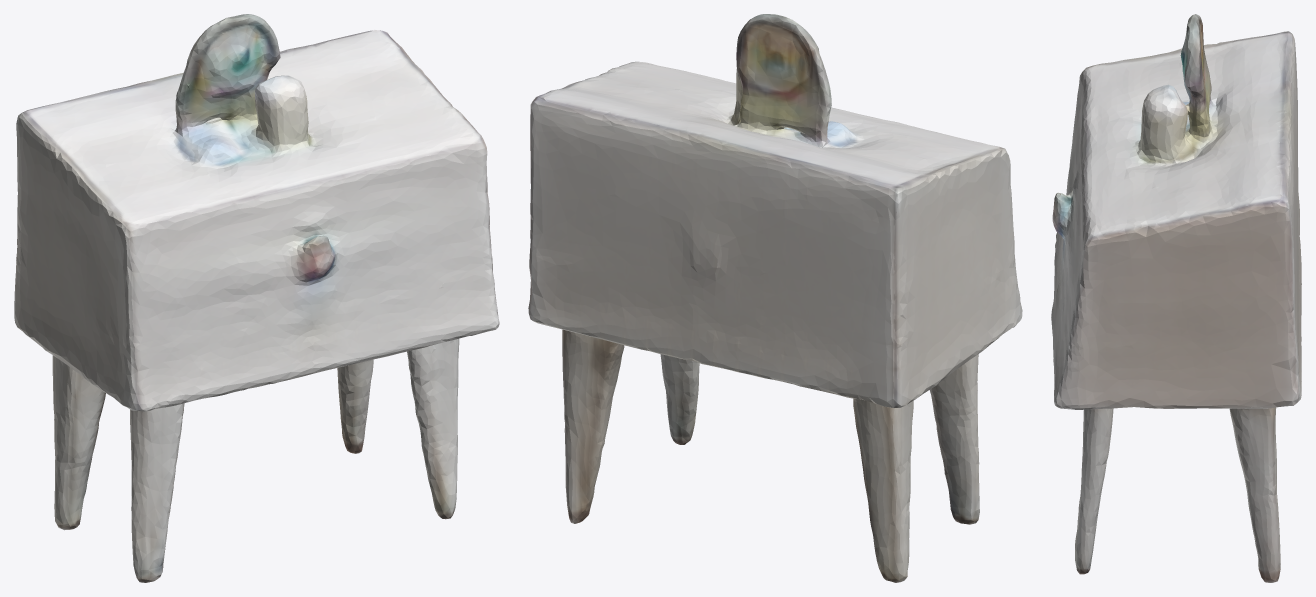
File: SESSION_1709473701_3541317_preview.gltf
The picture shows the model from 3 angles, left to right: view 1: azimuth 30°, elevation 25°; view 2: azimuth 150°, elevation 25°; view 3: azimuth 270°, elevation 25°; orthographic projection. The views are drawn at different scales.
Parts seen in each view (by area): view 1: output; view 2: output; view 3: output.
Boxes of the visible parts, <box> form: output: <box>14,14,499,582</box>; output: <box>528,14,1022,582</box>; output: <box>1051,14,1301,582</box>.
Bounding box in the file's own units: 1.05 × 1.37 × 0.6364.
1 material, 1 textured.
